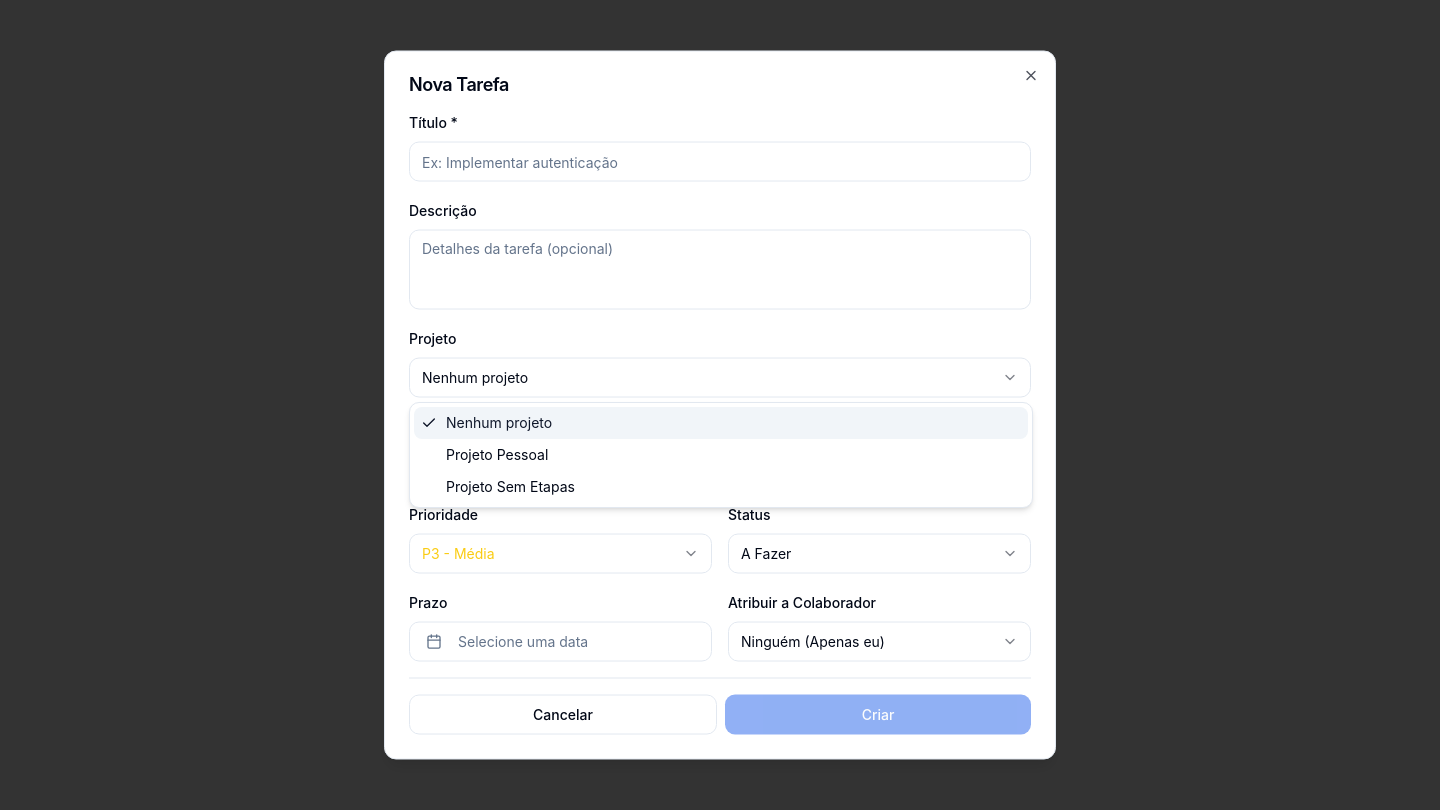
Test: ProjectTaskForm — the stage field (STG-01, STG-02, STG-03) › states that the project has no stages instead of hiding the field (STG-02)
Earlier steps of the test are not shown.
Click the option "Projeto Sem Etapas" at (510, 486), box x1=446 y1=478 x2=575 y2=495
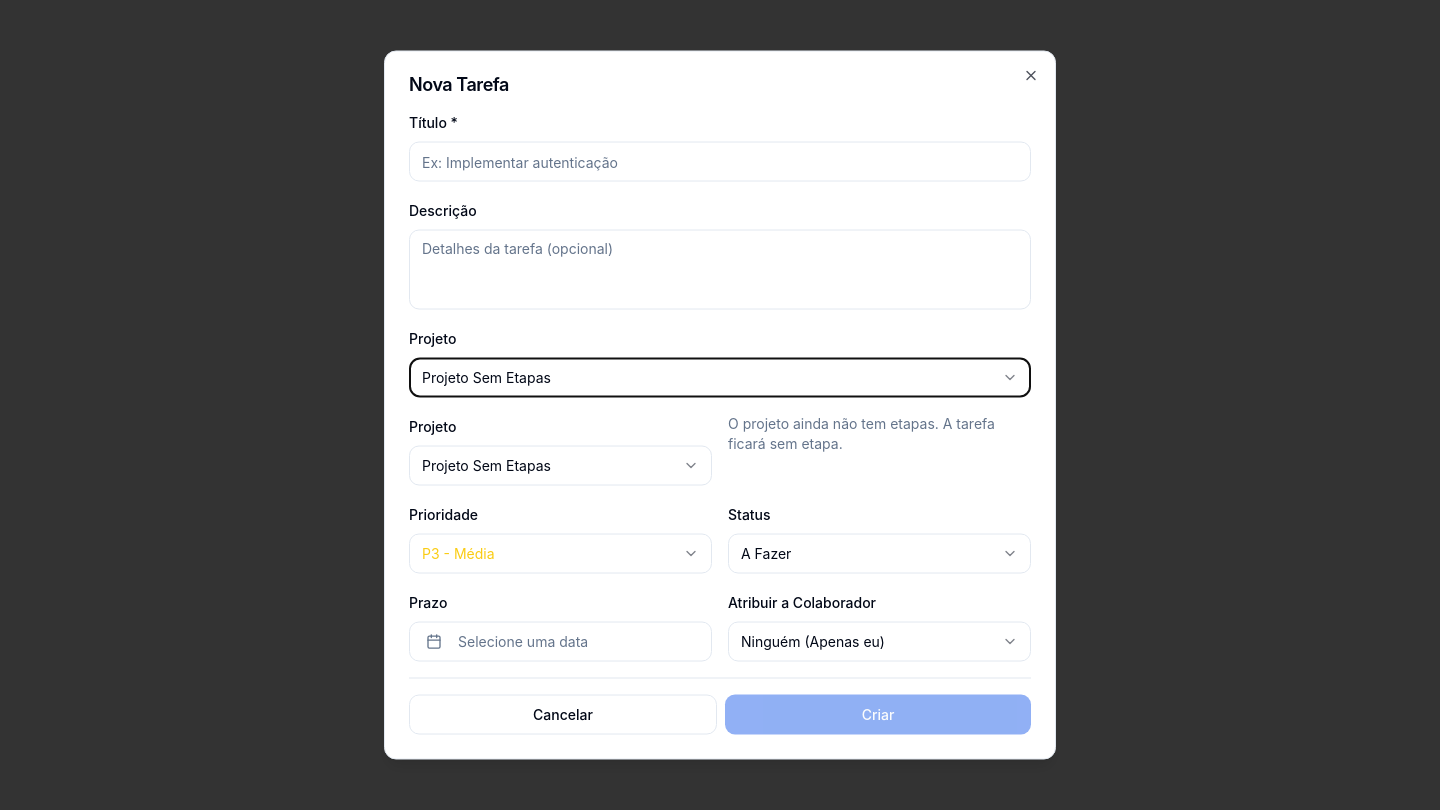
Result: the text "O projeto ainda não tem etapas. A tarefa ficará sem etapa." is shown at x1=728 y1=414 x2=995 y2=452
